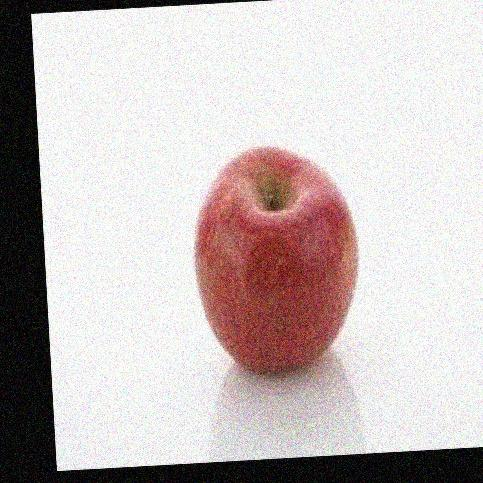red apple: (191, 143, 358, 376)
